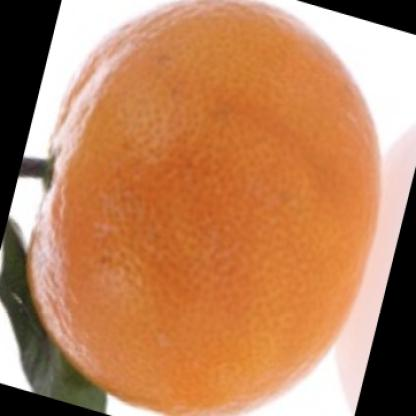fresh: (22, 2, 382, 416)
